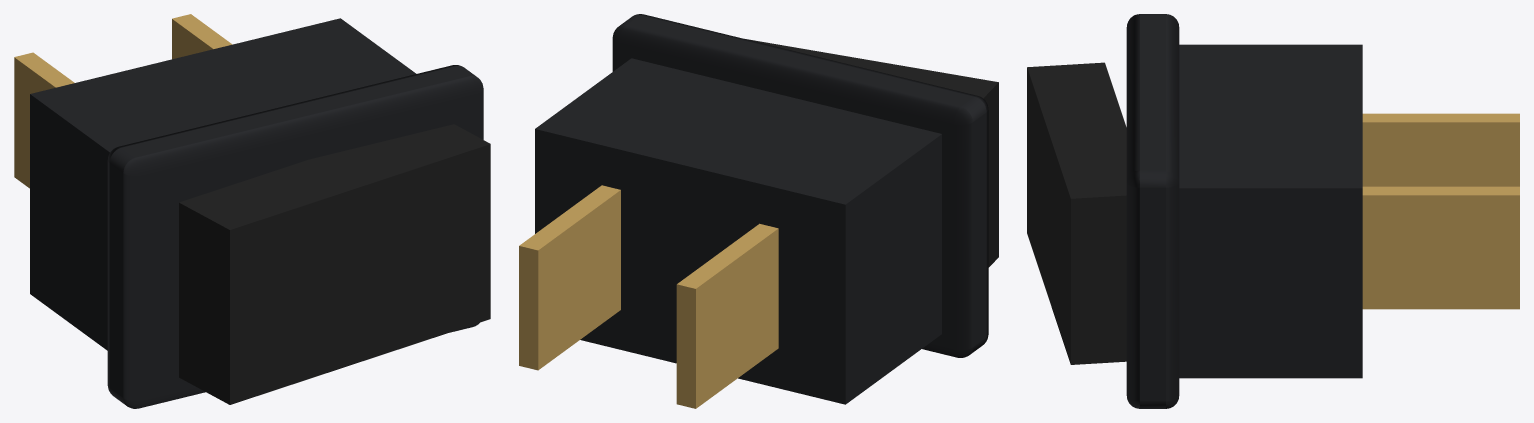
File: switch-rocker.glb
3 renders of one model, left to right at view 1: azimuth 30°, elevation 25°; view 2: azimuth 150°, elevation 25°; view 3: azimuth 270°, elevation 25°, orthographic. The views are drawn at different scales.
Visible parts, largest first — view 1: rocker, body, bezel, terminal_1, terminal_2; view 2: body, bezel, terminal_1, terminal_2, rocker; view 3: body, rocker, bezel, terminal_2, terminal_1.
Part boxes in pixels (<box>): rocker: <box>179,124,490,404</box>; body: <box>30,18,416,350</box>; bezel: <box>107,65,483,408</box>; terminal_1: <box>14,52,74,188</box>; terminal_2: <box>172,14,232,59</box>; body: <box>535,58,941,404</box>; bezel: <box>612,14,988,357</box>; terminal_1: <box>676,223,778,408</box>; terminal_2: <box>519,185,620,370</box>; rocker: <box>744,38,998,267</box>; body: <box>1179,44,1362,378</box>; rocker: <box>1027,62,1126,364</box>; bezel: <box>1126,14,1179,408</box>; terminal_2: <box>1362,186,1519,309</box>; terminal_1: <box>1362,113,1519,186</box>.
Bounding box in the file's own units: 15 × 10 × 18.81.
